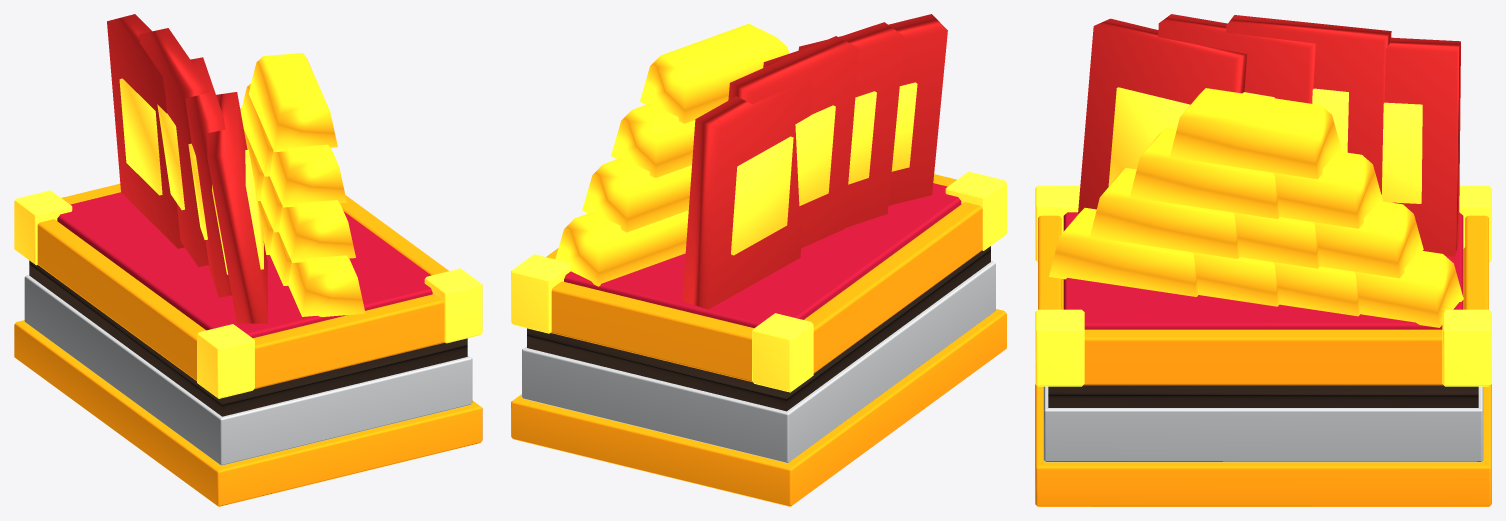
Rendered from wealth_tray_tier3.glb.
3 views of the same model, side by side, from view 1: azimuth 30°, elevation 25°; view 2: azimuth 150°, elevation 25°; view 3: azimuth 270°, elevation 25° (orthographic). The views are drawn at different scales.
Visible parts, largest first — view 1: SanctuaryWealthTray_Tier3; view 2: SanctuaryWealthTray_Tier3; view 3: SanctuaryWealthTray_Tier3.
Boxes of the visible parts, left/top/right/bottom form: SanctuaryWealthTray_Tier3: left=14, top=14, right=482, bottom=506; SanctuaryWealthTray_Tier3: left=511, top=14, right=1006, bottom=506; SanctuaryWealthTray_Tier3: left=1035, top=14, right=1491, bottom=506.
Bounding box in the file's own units: 0.36 × 0.44 × 0.48.
